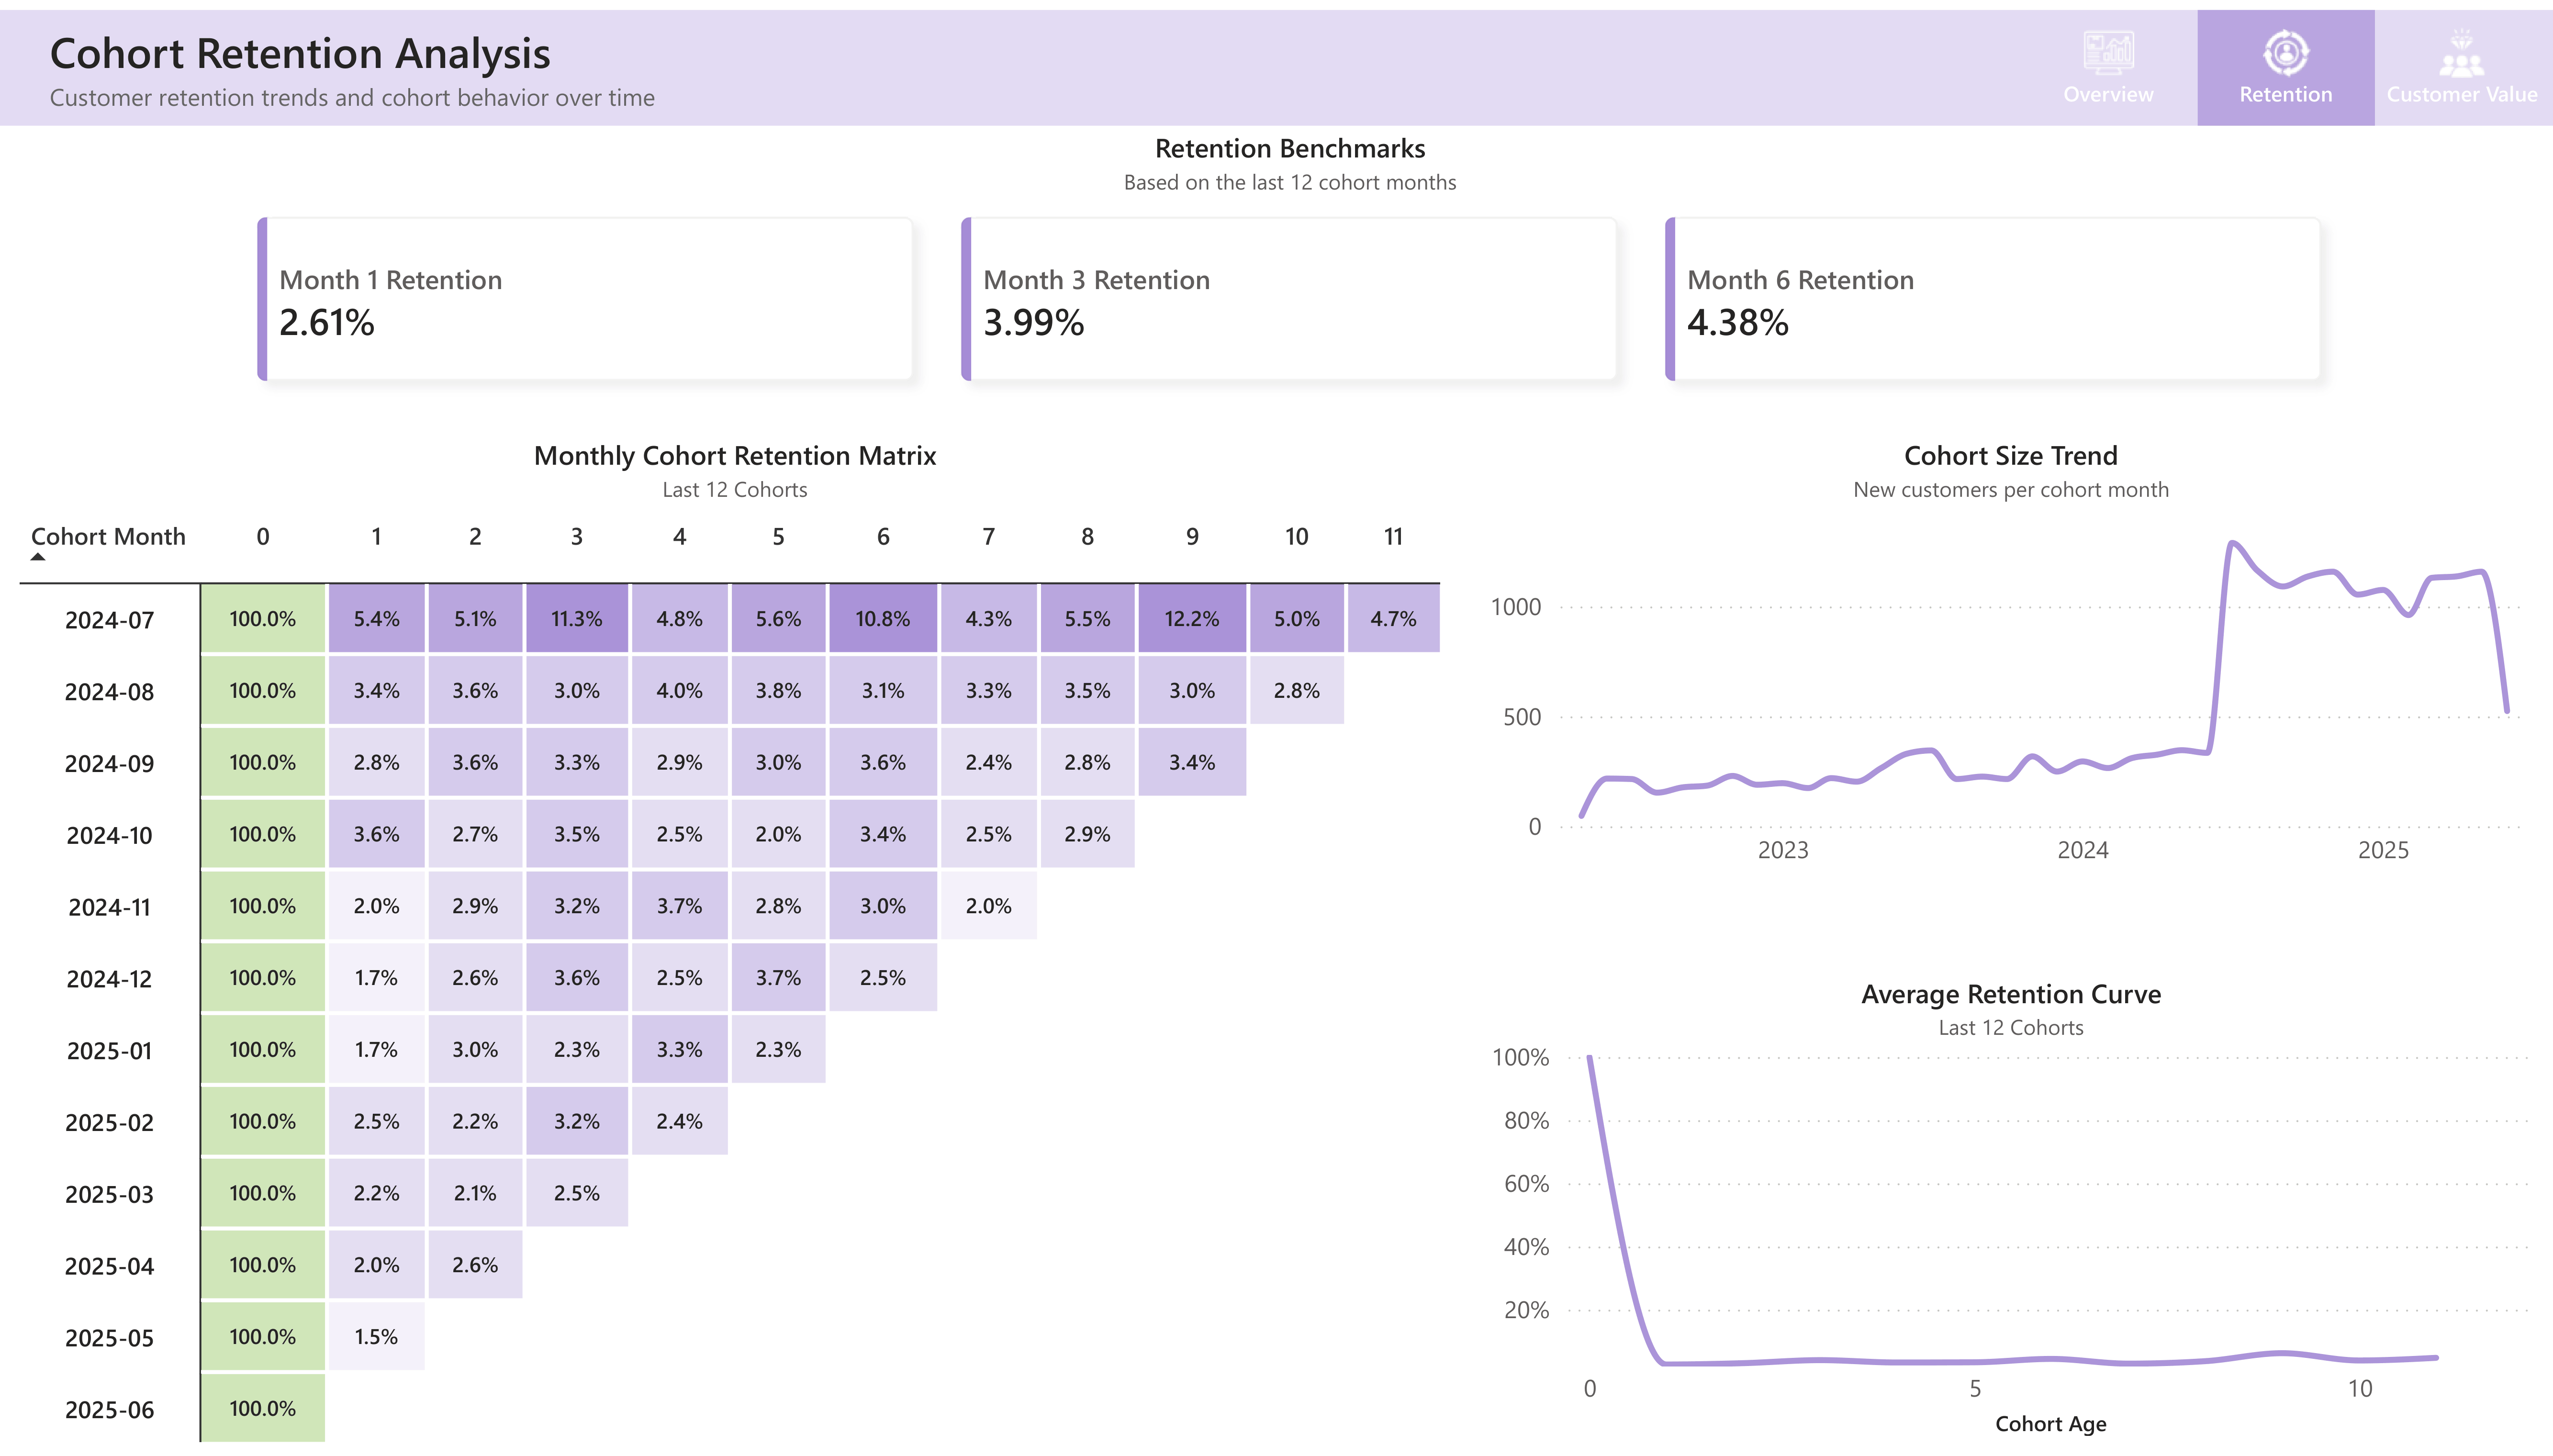

Layout of this report page (visuals, bound fields, positions):
{"tool":"powerbi","page":{"name":"Cohort Retention Analysis","canvas":[1280,720],"ordinal":1},"visuals":[{"type":"shape","box":[0,0,1280.4,58],"z":0},{"type":"textbox","title":"Cohort Retention Analysis","box":[19.9,6.3,355.5,69.8],"z":1000},{"type":"pivotTable","title":"Monthly Cohort Retention Matrix","fields":{"Rows":["retention_monthly.Cohort Month"],"Columns":["retention_monthly.Cohort Age"],"Values":["retention_monthly.Retantion Rate"]},"box":[0,208.6,737.2,511.4],"z":2000},{"type":"lineChart","title":"Cohort Size Trend","fields":{"Category":["retention_monthly.Cohort Month"],"Y":["retention_monthly.Cohort Size"]},"box":[737.2,208.6,543.2,230.3],"z":3000},{"type":"cardVisual","title":"Retention Benchmarks","fields":{"Data":["retention_monthly.Month 1 Retention","retention_monthly.Month 3 Retention","retention_monthly.Month 6 Retention"]},"box":[117,58,1060.1,142.4],"z":4000},{"type":"lineChart","title":"Average Retention Curve","fields":{"Category":["retention_monthly.Cohort Age"],"Y":["retention_monthly.Retention Rate"]},"box":[737.2,478.8,543.2,241.2],"z":5000},{"type":"actionButton","box":[1012.9,0,88.9,58],"z":6000},{"type":"actionButton","box":[1101.8,0,88.9,58],"z":7000},{"type":"actionButton","box":[1190.2,0,89.8,58],"z":8000}]}

Visuals, with their boxes in screenshot pixels (x1, y1, x2, y2), scaled from the page's 1280x720 canvas onto the 2553x1456 screenshot:
shape: <bbox>0, 0, 2553, 117</bbox>
"Cohort Retention Analysis" textbox: <bbox>40, 13, 749, 154</bbox>
"Monthly Cohort Retention Matrix" pivotTable: <bbox>0, 422, 1470, 1456</bbox>
"Cohort Size Trend" lineChart: <bbox>1470, 422, 2553, 887</bbox>
"Retention Benchmarks" cardVisual: <bbox>234, 117, 2348, 405</bbox>
"Average Retention Curve" lineChart: <bbox>1470, 968, 2553, 1456</bbox>
actionButton: <bbox>2020, 0, 2197, 117</bbox>
actionButton: <bbox>2197, 0, 2375, 117</bbox>
actionButton: <bbox>2374, 0, 2553, 117</bbox>
